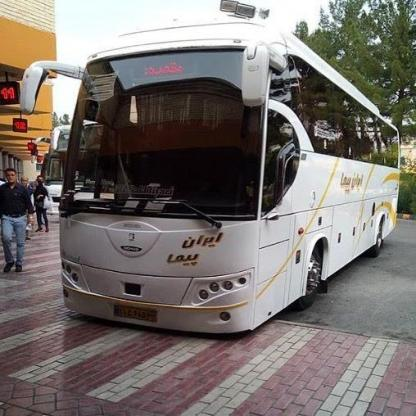Bus: (12, 17, 406, 341)
